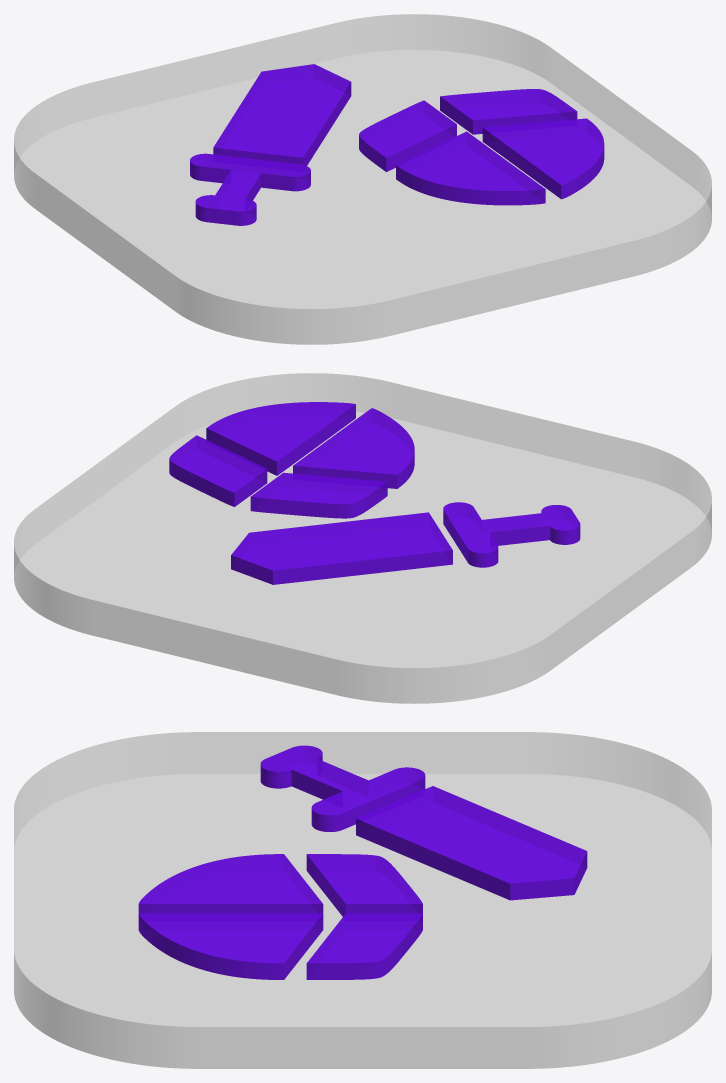
The model's file is Battle Icon.fbx.
3 renders of one model, top to bottom at view 1: azimuth 30°, elevation 25°; view 2: azimuth 150°, elevation 25°; view 3: azimuth 270°, elevation 25°, orthographic. The views are drawn at different scales.
Parts seen in each view (by area): view 1: Rectangle, Path; view 2: Rectangle, Path; view 3: Rectangle, Path.
Part boxes in pixels (bbox=[...]): Rectangle: bbox=[14, 14, 711, 344]; Path: bbox=[190, 64, 604, 225]; Rectangle: bbox=[14, 373, 711, 703]; Path: bbox=[169, 402, 580, 584]; Rectangle: bbox=[14, 732, 711, 1068]; Path: bbox=[138, 745, 587, 979].
Size of the model in its own units: 378 by 378 by 40.
